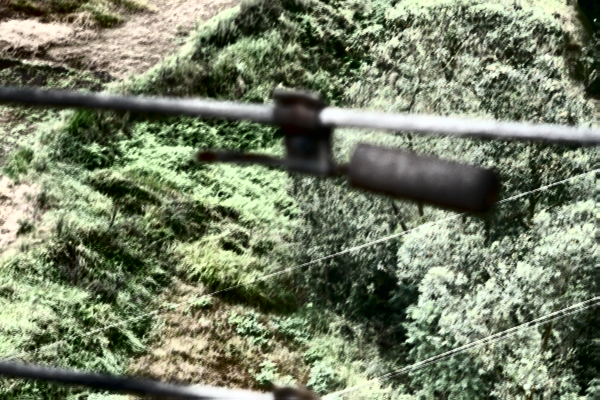damper_defect: (178, 82, 505, 226)
